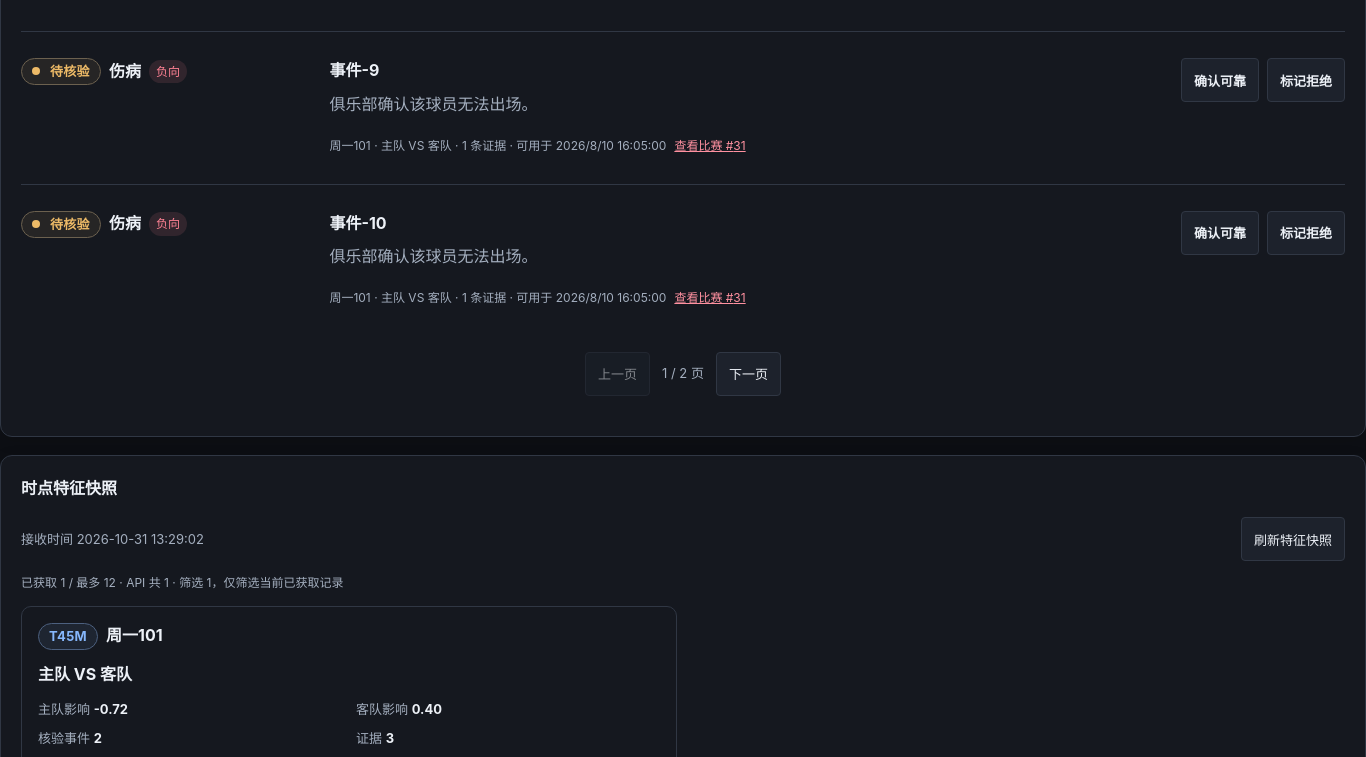
Test: NewsIntelligencePage › filters and pages only the fetched event subset with match deep links
This screenshot has width=1366, height=757.
(page scrolled)
Expected: the text "事件-11" is not shown
Click the button with aria-label "事件下一页" at [748, 374], box [716,352,781,396]
(page scrolled)
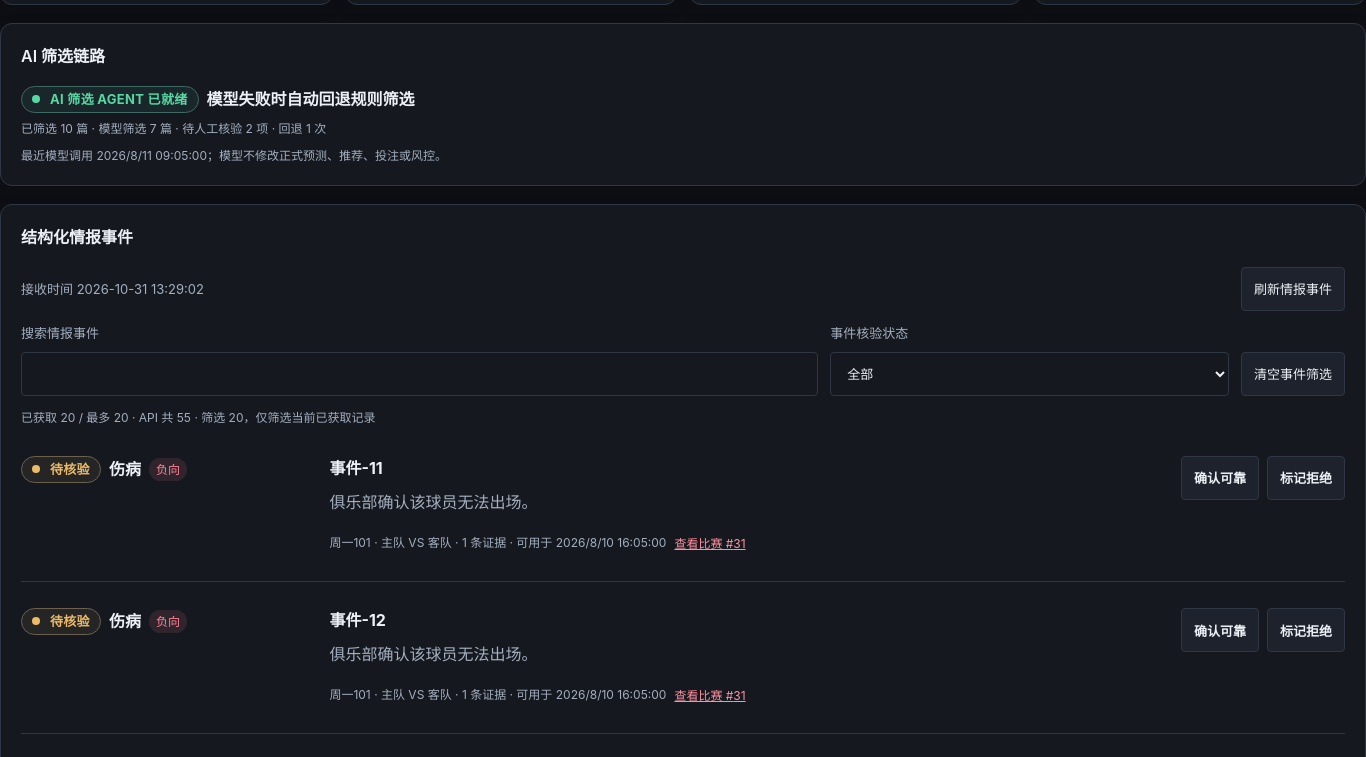
Result: the text "事件-11" is shown at [329,458,383,478]
Select "已核验" in the dropdown labelled "事件核验状态" at [1030, 374], box [830,352,1229,396]
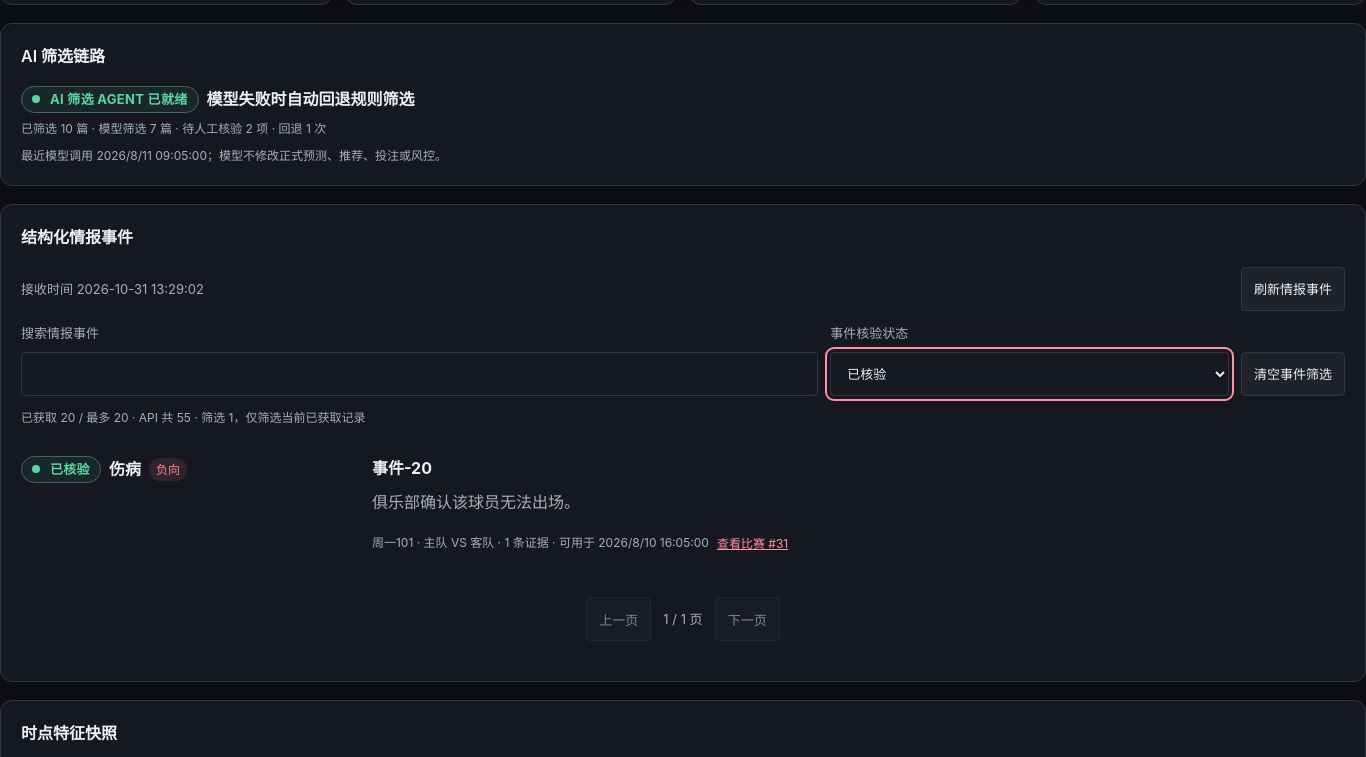
Result: the text "事件-20" is shown at [372,458,432,478]
Result: the text "事件-11" is gone
